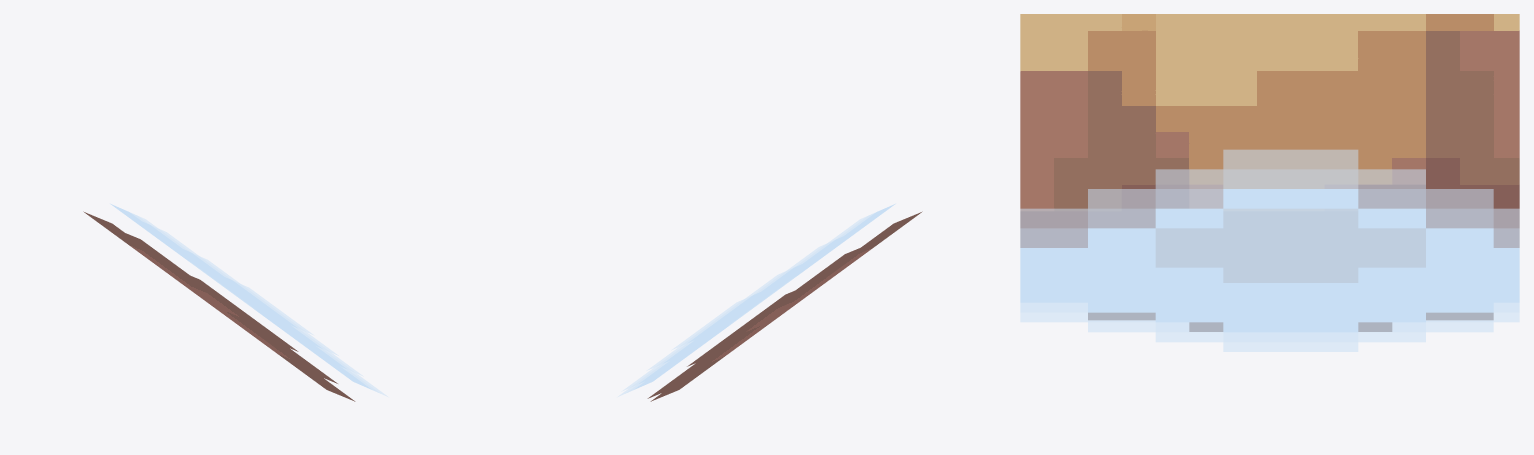
The picture shows the model from 3 angles, left to right: view 1: azimuth 30°, elevation 25°; view 2: azimuth 150°, elevation 25°; view 3: azimuth 270°, elevation 25°; orthographic projection. The views are drawn at different scales.
Size of the model in its own units: 0.5459 by 0.6892 by 1.
2 materials, 2 textured.
